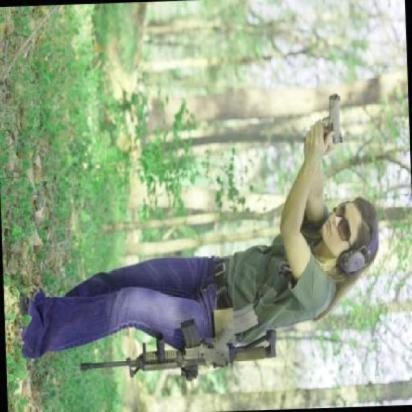Gun: (74, 315, 289, 385), (310, 92, 352, 147)
